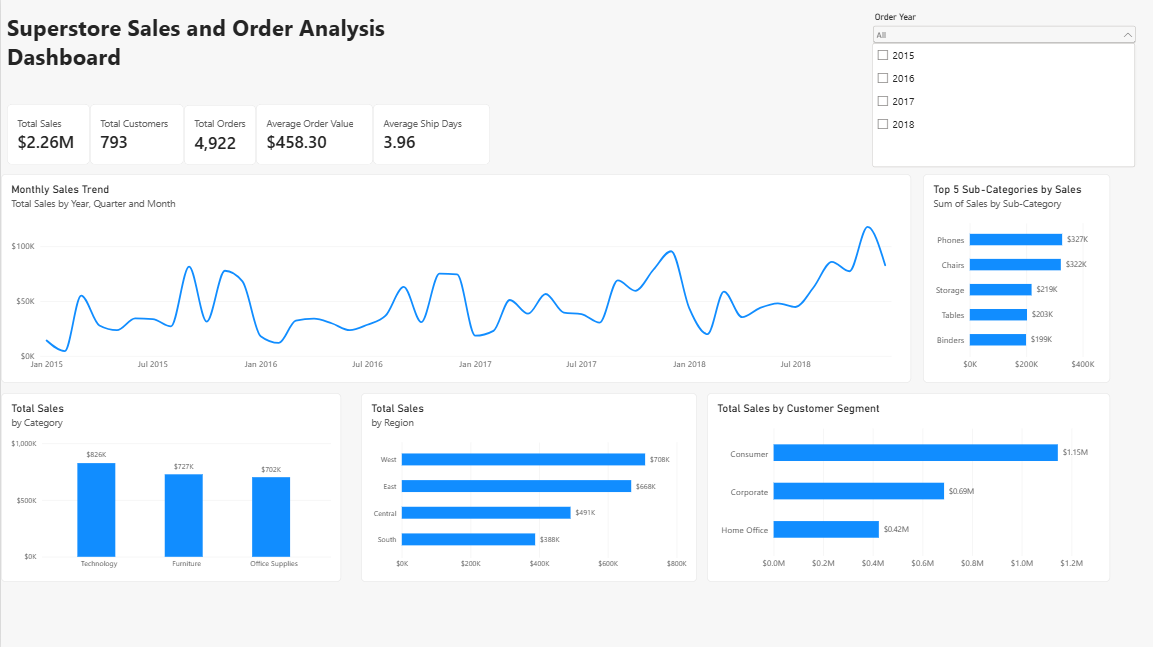

This screenshot's page, from the dashboard's own definition file:
{"tool":"powerbi","page":{"name":"Page 1","canvas":[1920,1080],"ordinal":0},"visuals":[{"type":"cardVisual","fields":{"Data":["superstore_sales.Total Sales"]},"box":[10,173.3,138.3,101.7],"z":0},{"type":"cardVisual","fields":{"Data":["superstore_sales.Total Orders"]},"box":[305,175,120,100],"z":1000},{"type":"cardVisual","fields":{"Data":["superstore_sales.Total Customers"]},"box":[148.3,173.3,156.7,101.7],"z":2000},{"type":"cardVisual","fields":{"Data":["superstore_sales.Average Ship Days"]},"box":[620,173.3,195,101.7],"z":3000},{"type":"cardVisual","fields":{"Data":["superstore_sales.Average Order Value"]},"box":[425,173.3,195,101.7],"z":4000},{"type":"textbox","box":[10,20,672,130],"z":5000},{"type":"lineChart","title":"Monthly Sales Trend","fields":{"Category":["superstore_sales.Order Date.Variation.Date Hierarchy.Year","superstore_sales.Order Date.Variation.Date Hierarchy.Quarter","superstore_sales.Order Date.Variation.Date Hierarchy.Month","superstore_sales.Order Date.Variation.Date Hierarchy.Day"],"Y":["superstore_sales.Total Sales"]},"box":[0,290,1516.7,348.3],"z":6000},{"type":"clusteredBarChart","fields":{"Category":["superstore_sales.Region"],"Y":["superstore_sales.Total Sales"]},"box":[600,655,560,315],"z":6001},{"type":"clusteredColumnChart","fields":{"Category":["superstore_sales.Category"],"Y":["superstore_sales.Total Sales"]},"box":[0,655,566.7,315],"z":6002},{"type":"clusteredBarChart","title":"Top 5 Sub-Categories by Sales","fields":{"Category":["superstore_sales.Sub-Category"],"Y":["Sum(superstore_sales.Sales)"]},"box":[1536.7,290,311.7,348.3],"z":6003},{"type":"slicer","fields":{"Values":["superstore_sales.Order Year"]},"box":[1448.3,20,448.3,85],"z":6004},{"type":"clusteredBarChart","title":"Total Sales by Customer Segment","fields":{"Category":["superstore_sales.Segment"],"Y":["Sum(superstore_sales.Sales)"]},"box":[1176.7,655,671.7,315],"z":6005}]}

Visuals, with their boxes in screenshot pixels (x1, y1, x2, y2), scaled from the page's 1920x1080 canvas onto the 1153x647 screenshot:
cardVisual - superstore_sales.Total Sales: 6, 104, 89, 165
cardVisual - superstore_sales.Total Orders: 183, 105, 255, 165
cardVisual - superstore_sales.Total Customers: 89, 104, 183, 165
cardVisual - superstore_sales.Average Ship Days: 372, 104, 489, 165
cardVisual - superstore_sales.Average Order Value: 255, 104, 372, 165
textbox: 6, 12, 410, 90
"Monthly Sales Trend" lineChart: 0, 174, 911, 382
clusteredBarChart - superstore_sales.Region x superstore_sales.Total Sales: 360, 392, 697, 581
clusteredColumnChart - superstore_sales.Category x superstore_sales.Total Sales: 0, 392, 340, 581
"Top 5 Sub-Categories by Sales" clusteredBarChart: 923, 174, 1110, 382
slicer - superstore_sales.Order Year: 870, 12, 1139, 63
"Total Sales by Customer Segment" clusteredBarChart: 707, 392, 1110, 581
